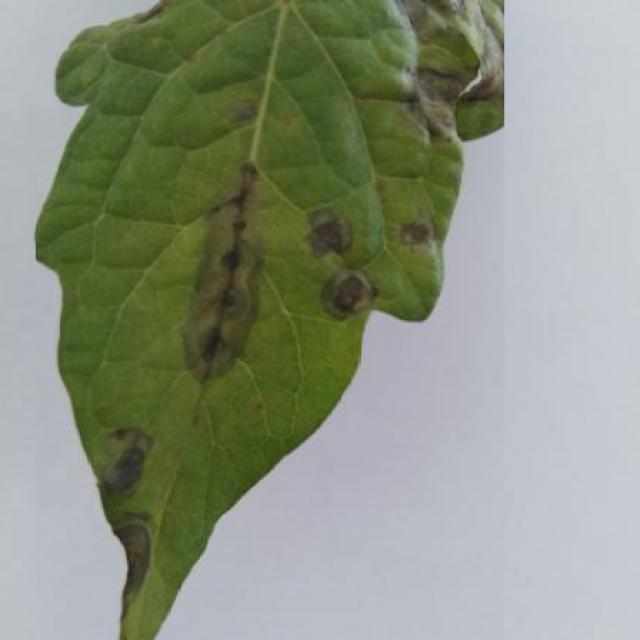Early Blight: (36, 0, 505, 640)
